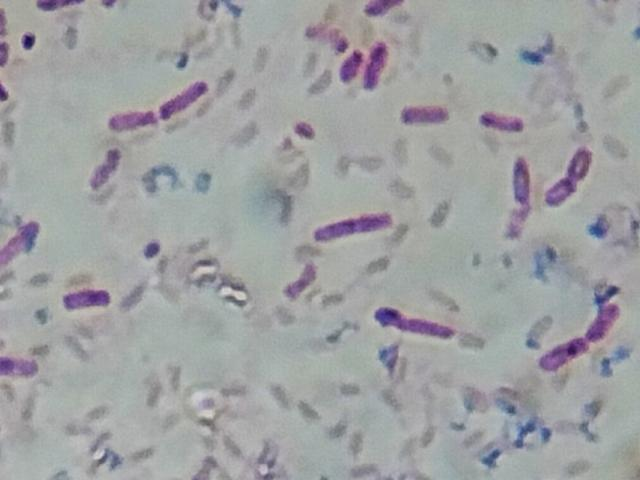E. coli: (379, 304, 462, 347), (312, 212, 395, 244), (154, 81, 213, 121), (537, 334, 591, 374), (85, 145, 128, 191), (578, 300, 621, 342), (2, 216, 38, 265), (510, 152, 531, 234), (282, 258, 320, 301), (103, 106, 157, 136), (360, 35, 387, 94), (480, 103, 524, 136), (398, 100, 449, 128), (59, 284, 113, 309), (0, 352, 40, 383), (544, 177, 581, 210), (335, 44, 361, 87), (360, 0, 406, 24), (567, 146, 592, 182), (37, 0, 72, 22)
